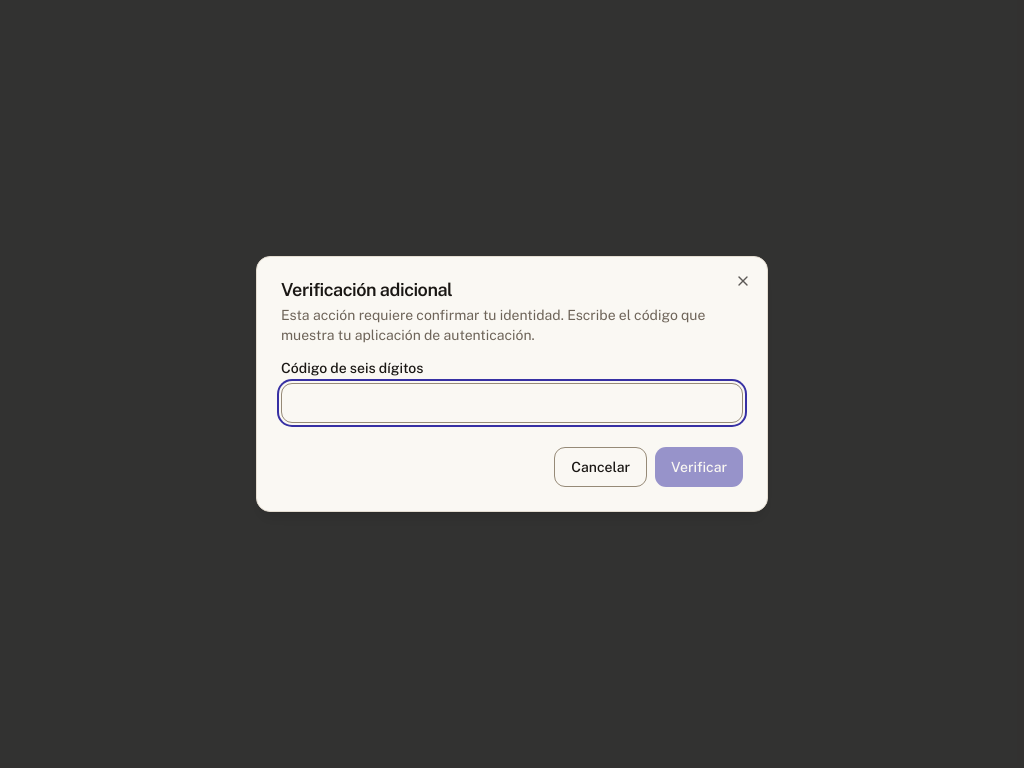
Scenario: StepUpDialog › a network failure says so, and resolves nothing
Type "123456" into the field labelled "Código de seis dígitos".
click(512, 403); type("123456")  # box [281,383,743,423]
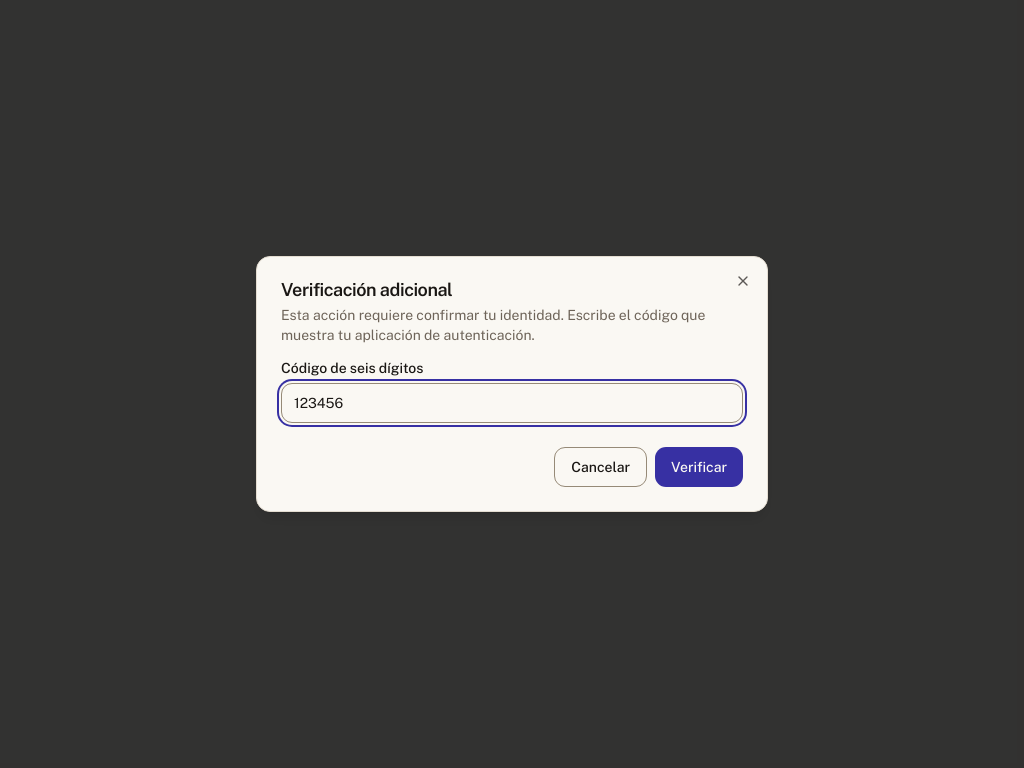
Click the button "Verificar".
click(699, 467)  # box [655,447,743,487]
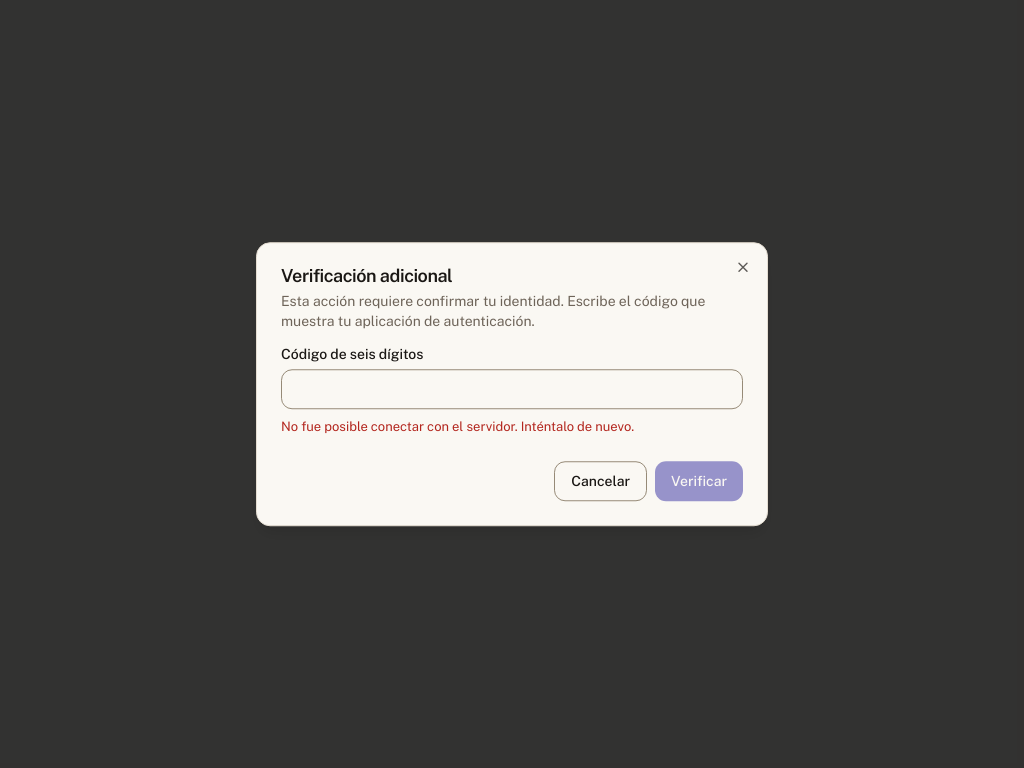
Check: the message shows "No fue posible conectar", box [281,419,634,434]
